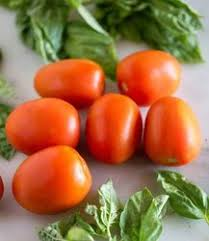tomato: (11, 145, 92, 211), (84, 94, 141, 165), (144, 96, 198, 165), (115, 48, 183, 99), (28, 59, 107, 102)
